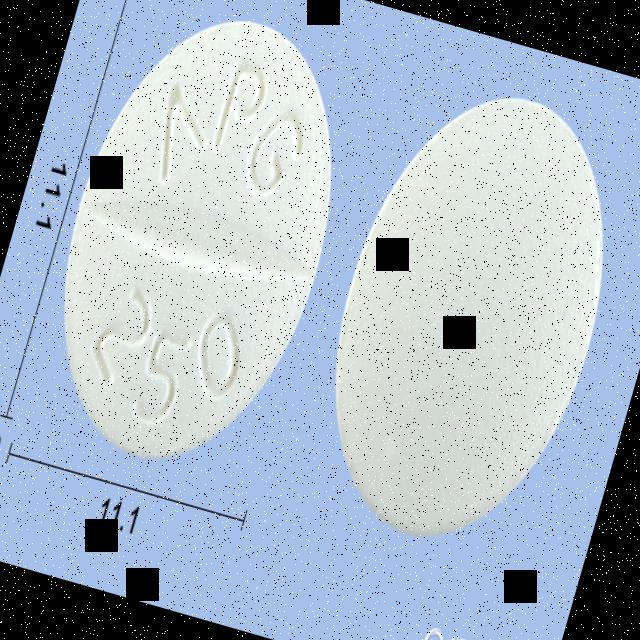Ciflo: (13, 0, 382, 495)
